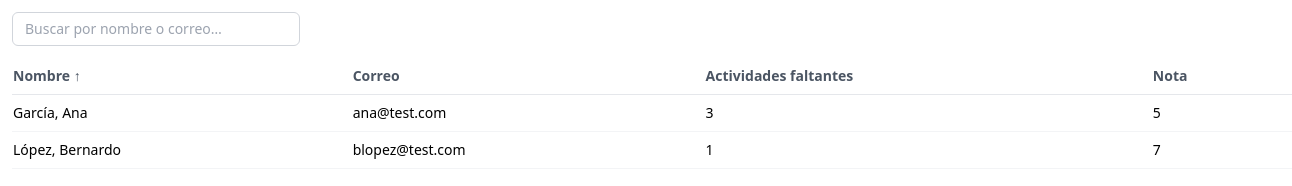
Test: TablaAtrasados › filters by email
This screenshot has width=1292, height=186.
Type "blopez" into the field labelled "Buscar por nombre o correo…" at (156, 29), box top-left (12, 12), bottom-right (300, 46)
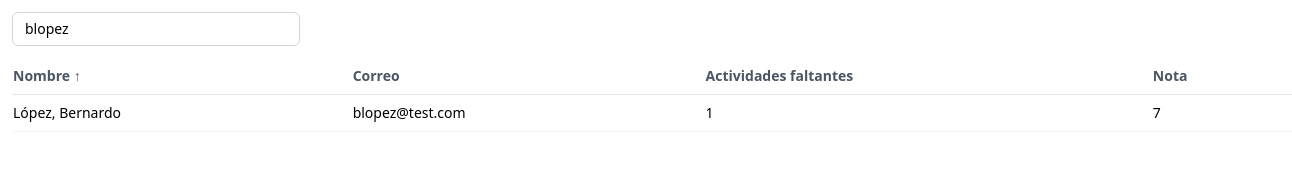
Expected: the text "López, Bernardo" is shown, top-left (12, 94), bottom-right (352, 132)
Now the text "García" is gone
